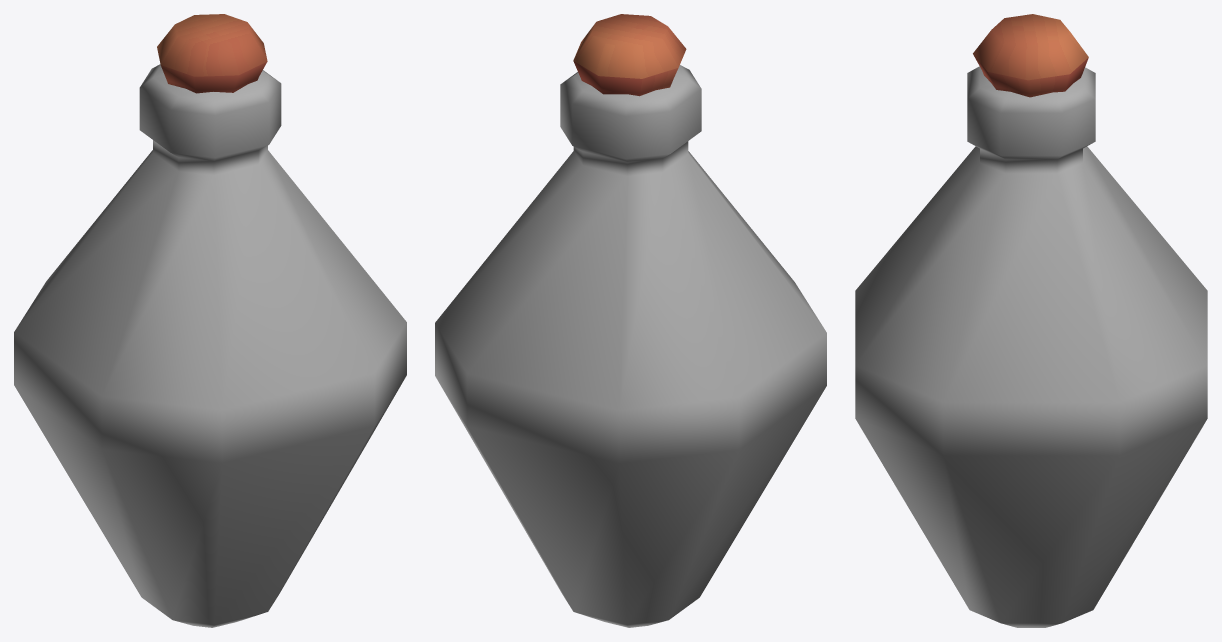
The model's file is Potion3.fbx.
3 views of the same model, side by side, from view 1: azimuth 30°, elevation 25°; view 2: azimuth 150°, elevation 25°; view 3: azimuth 270°, elevation 25° (orthographic).
Parts seen in each view (by area): view 1: Glass2, Extra1; view 2: Glass2, Extra1; view 3: Glass2, Extra1.
Part boxes in pixels (x1,y1,x2,y2): Glass2: (14,64,406,627); Extra1: (157,14,267,93); Glass2: (435,65,826,627); Extra1: (573,14,686,96); Glass2: (855,66,1207,627); Extra1: (973,14,1088,97).
Bounding box in the file's own units: 1 × 1.84 × 1.
2 materials, 1 textured.
